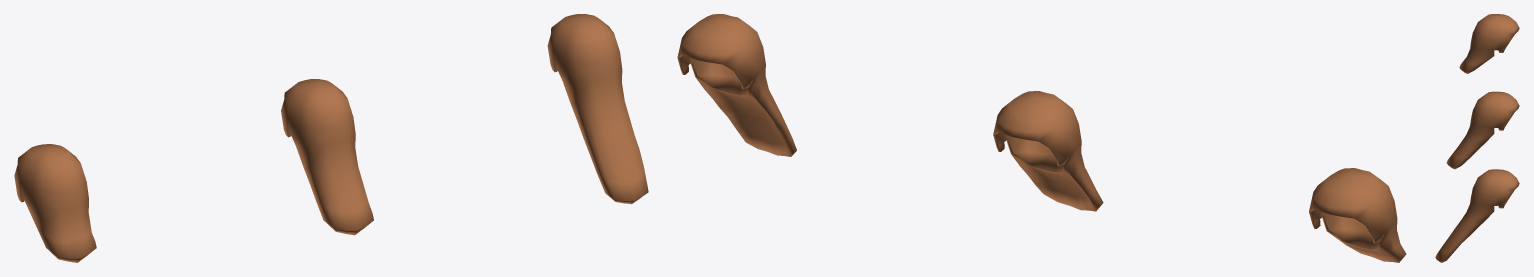
Rendered from LongHair.fbx.
3 views of the same model, side by side, from view 1: azimuth 30°, elevation 25°; view 2: azimuth 150°, elevation 25°; view 3: azimuth 270°, elevation 25° (orthographic). The views are drawn at different scales.
Visible parts, largest first — view 1: LongHairLong, LongHairMedium, LongHairShort; view 2: LongHairLong, LongHairMedium, LongHairShort; view 3: LongHairLong, LongHairMedium, LongHairShort.
Boxes of the visible parts, <box> form: LongHairLong: <box>547,14,648,204</box>; LongHairMedium: <box>281,79,373,235</box>; LongHairShort: <box>14,144,96,262</box>; LongHairLong: <box>677,14,796,156</box>; LongHairMedium: <box>993,91,1103,211</box>; LongHairShort: <box>1309,168,1406,262</box>; LongHairLong: <box>1435,169,1519,262</box>; LongHairMedium: <box>1446,91,1519,169</box>; LongHairShort: <box>1459,14,1519,73</box>.
Bounding box in the file's own units: 2.21 × 0.5355 × 0.4584.
